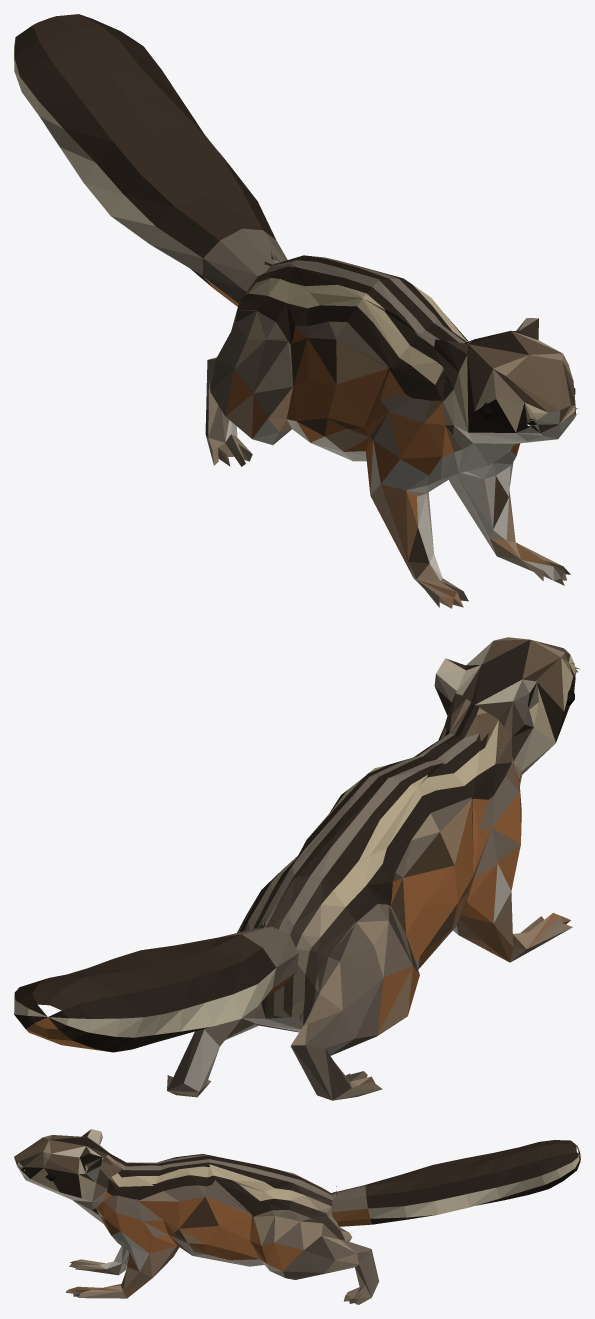
The model's file is chipmunk.glb.
3 views of the same model, one above another, from view 1: azimuth 30°, elevation 25°; view 2: azimuth 150°, elevation 25°; view 3: azimuth 270°, elevation 25° (orthographic). The views are drawn at different scales.
Visible parts, largest first — view 1: lod0; view 2: lod0; view 3: lod0.
Boxes of the visible parts, <box> form: lod0: <box>14,14,578,608</box>; lod0: <box>14,637,580,1100</box>; lod0: <box>14,1129,580,1304</box>.
Size of what is drawn, in the model's own units: 0.0457 by 0.0693 by 0.2454.
